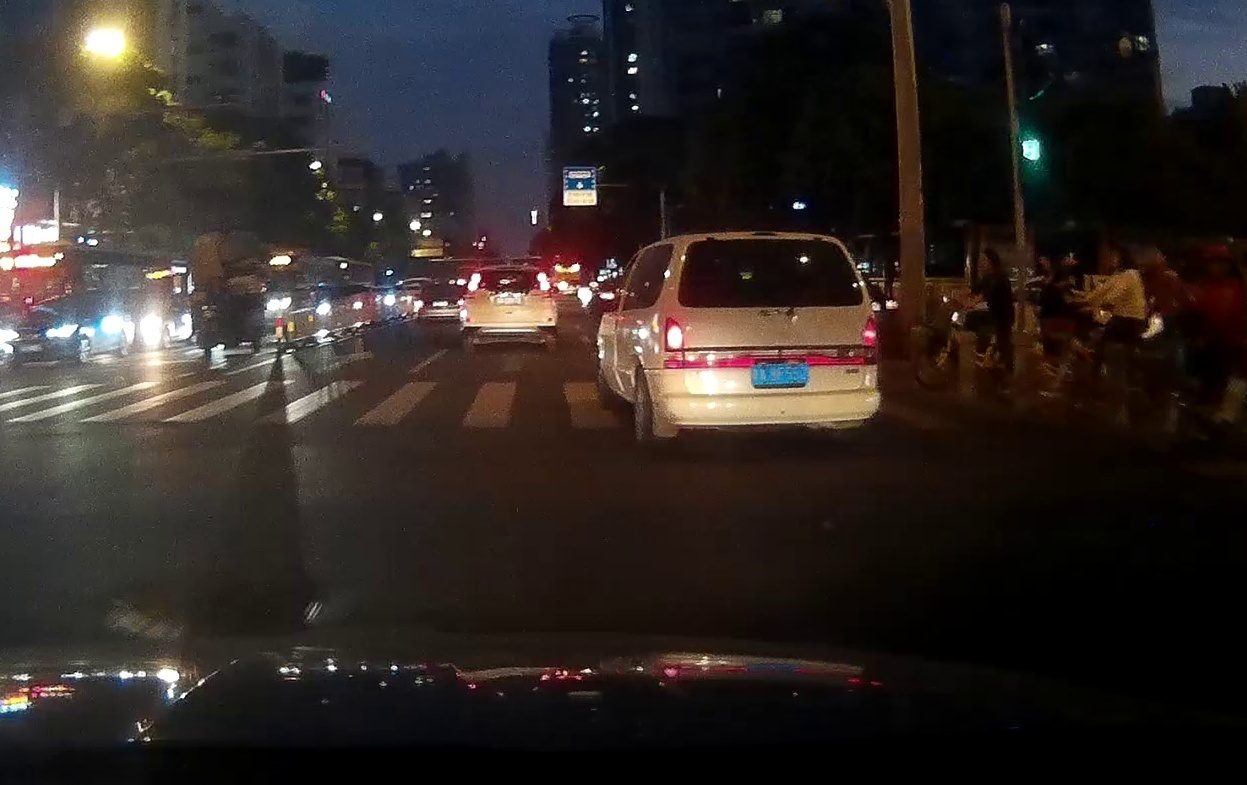L_light: (663, 316, 685, 368), (464, 273, 480, 298)
R_light: (862, 314, 879, 365), (537, 273, 552, 297)
T_light: (753, 238, 782, 246), (501, 270, 515, 274)
night-left: (662, 232, 881, 441)
night-no: (460, 264, 557, 351)
